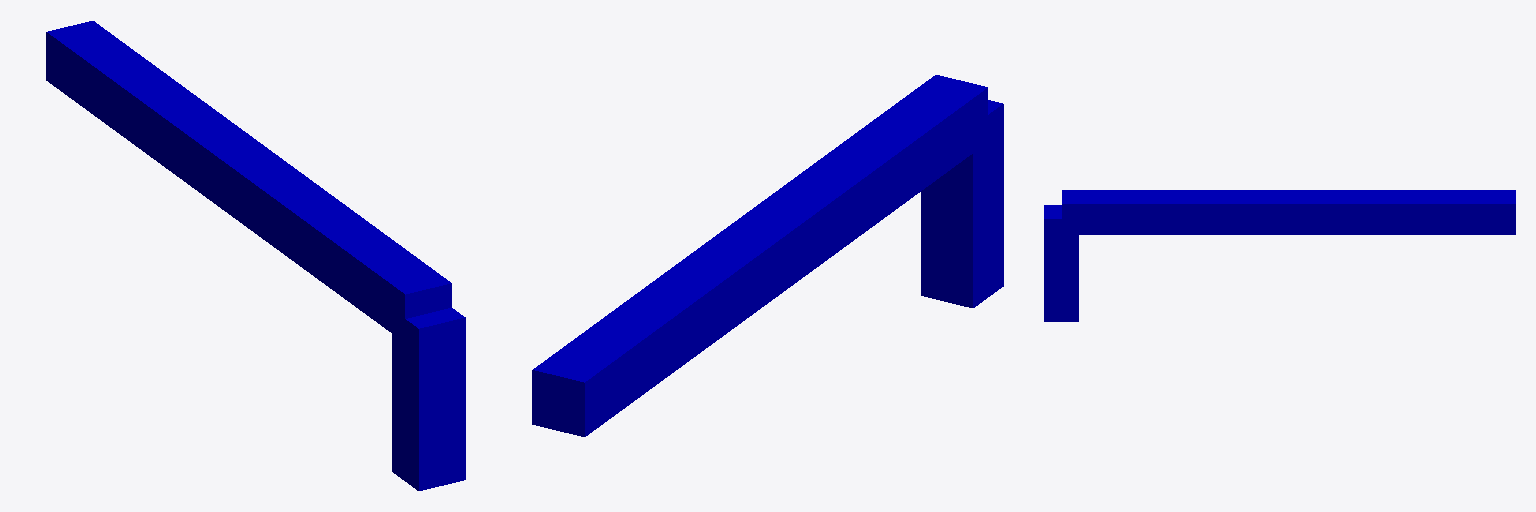
The robot description file, URDF, robot "arm_bot":
<?xml version="1.0" ?>
<!-- =================================================================================== -->
<!-- |    This document was autogenerated by xacro from arm_bot.xacro                  | -->
<!-- |    EDITING THIS FILE BY HAND IS NOT RECOMMENDED                                 | -->
<!-- =================================================================================== -->
<robot name="arm_bot" xmlns:xacro="http://www.ros.org/wiki/xacro">
  <link name="world"/>
  <link name="base1">
    <visual>
      <geometry>
        <box size="1e-12 1e-12 1e-12"/>
      </geometry>
      <material name="blue">
        <color rgba="0 0 .8 1"/>
      </material>
    </visual>
    <collision>
      <geometry>
        <box size="1e-12 1e-12 1e-12"/>
      </geometry>
    </collision>
    <inertial>
      <mass value="0.1"/>
      <inertia ixx="0.03" ixy="0.0" ixz="0.0" iyy="0.03" iyz="0.0" izz="0.03"/>
    </inertial>
  </link>
  <link name="base2">
    <visual>
      <origin rpy="0 0 0" xyz="0 0 2.5"/>
      <geometry>
        <box size="1.5 1.5 5"/>
      </geometry>
      <material name="blue">
        <color rgba="0 0 .8 1"/>
      </material>
    </visual>
    <collision>
      <origin rpy="0 0 0" xyz="0 0 2.5"/>
      <geometry>
        <box size="1.5 1.5 5"/>
      </geometry>
    </collision>
    <inertial>
      <mass value="0.1"/>
      <inertia ixx="0.03" ixy="0.0" ixz="0.0" iyy="0.03" iyz="0.0" izz="0.03"/>
    </inertial>
  </link>
  <link name="link1">
    <visual>
      <origin rpy="0 0 0" xyz="0 1.0 0"/>
      <geometry>
        <box size="1.5 2 1.5"/>
      </geometry>
      <material name="blue">
        <color rgba="0 0 .8 1"/>
      </material>
    </visual>
    <collision>
      <origin rpy="0 0 0" xyz="0 1.0 0"/>
      <geometry>
        <box size="1.5 2 1.5"/>
      </geometry>
    </collision>
    <inertial>
      <mass value="0.1"/>
      <inertia ixx="0.03" ixy="0.0" ixz="0.0" iyy="0.03" iyz="0.0" izz="0.03"/>
    </inertial>
  </link>
  <link name="link2">
    <visual>
      <origin rpy="0 0 0" xyz="0 5.0 0"/>
      <geometry>
        <box size="1.5 10 1.5"/>
      </geometry>
      <material name="blue">
        <color rgba="0 0 .8 1"/>
      </material>
    </visual>
    <collision>
      <origin rpy="0 0 0" xyz="0 5.0 0"/>
      <geometry>
        <box size="1.5 10 1.5"/>
      </geometry>
    </collision>
    <inertial>
      <mass value="0.1"/>
      <inertia ixx="0.03" ixy="0.0" ixz="0.0" iyy="0.03" iyz="0.0" izz="0.03"/>
    </inertial>
  </link>
  <link name="link3">
    <visual>
      <origin rpy="0 0 0" xyz="0 4.0 0"/>
      <geometry>
        <box size="1.5 8 1.5"/>
      </geometry>
      <material name="blue">
        <color rgba="0 0 .8 1"/>
      </material>
    </visual>
    <collision>
      <origin rpy="0 0 0" xyz="0 4.0 0"/>
      <geometry>
        <box size="1.5 8 1.5"/>
      </geometry>
    </collision>
    <inertial>
      <mass value="0.1"/>
      <inertia ixx="0.03" ixy="0.0" ixz="0.0" iyy="0.03" iyz="0.0" izz="0.03"/>
    </inertial>
  </link>
  <joint name="fixed" type="fixed">
    <parent link="world"/>
    <child link="base1"/>
  </joint>
  <joint name="base_rotate" type="continuous">
    <parent link="base1"/>
    <child link="base2"/>
    <origin rpy="0 0 0" xyz="0 0 0"/>
    <axis xyz="0 0 1"/>
  </joint>
  <joint name="joint1" type="revolute">
    <parent link="base2"/>
    <child link="link1"/>
    <origin rpy="0 0 0" xyz="0 0 5"/>
    <axis xyz="1 0 0"/>
    <limit effort="100" lower="-3.14" upper="3.14" velocity="3"/>
    <!-- Effort is between 0 and 100 (units are %) and velocity is radians per second -->
  </joint>
  <joint name="joint2" type="revolute">
    <parent link="link1"/>
    <child link="link2"/>
    <origin rpy="0 0 0" xyz="0 2 0"/>
    <axis xyz="1 0 0"/>
    <limit effort="100" lower="-3.14" upper="3.14" velocity="3"/>
    <!-- Effort is between 0 and 100 (units are %) and velocity is radians per second -->
  </joint>
  <joint name="joint3" type="revolute">
    <parent link="link2"/>
    <child link="link3"/>
    <origin rpy="0 0 0" xyz="0 10 0"/>
    <axis xyz="1 0 0"/>
    <limit effort="100" lower="-3.14" upper="3.14" velocity="3"/>
    <!-- Effort is between 0 and 100 (units are %) and velocity is radians per second -->
  </joint>
  <transmission name="trans_base_rotate">
    <type>transmission_interface/SimpleTransmission</type>
    <joint name="base_rotate">
      <hardwareInterface>hardware_interface/EffortJointInterface</hardwareInterface>
    </joint>
    <actuator name="base_rotate_motor">
      <hardwareInterface>hardware_interface/EffortJointInterface</hardwareInterface>
      <mechanicalReduction>1</mechanicalReduction>
    </actuator>
  </transmission>
  <transmission name="trans_joint1">
    <type>transmission_interface/SimpleTransmission</type>
    <joint name="joint1">
      <hardwareInterface>hardware_interface/EffortJointInterface</hardwareInterface>
    </joint>
    <actuator name="joint1_motor">
      <hardwareInterface>hardware_interface/EffortJointInterface</hardwareInterface>
      <mechanicalReduction>1</mechanicalReduction>
    </actuator>
  </transmission>
  <transmission name="trans_joint2">
    <type>transmission_interface/SimpleTransmission</type>
    <joint name="joint2">
      <hardwareInterface>hardware_interface/EffortJointInterface</hardwareInterface>
    </joint>
    <actuator name="joint2_motor">
      <hardwareInterface>hardware_interface/EffortJointInterface</hardwareInterface>
      <mechanicalReduction>1</mechanicalReduction>
    </actuator>
  </transmission>
  <transmission name="trans_joint3">
    <type>transmission_interface/SimpleTransmission</type>
    <joint name="joint3">
      <hardwareInterface>hardware_interface/EffortJointInterface</hardwareInterface>
    </joint>
    <actuator name="joint3_motor">
      <hardwareInterface>hardware_interface/EffortJointInterface</hardwareInterface>
      <mechanicalReduction>1</mechanicalReduction>
    </actuator>
  </transmission>
  <gazebo>
    <plugin filename="libgazebo_ros_control.so" name="gazebo_ros_control">
      <robotNamespace>/</robotNamespace>
    </plugin>
  </gazebo>
</robot>

--- Render facts (derived) ---
Views: 3 orthographic renders of the robot side by side, from view 1: azimuth 30°, elevation 25°; view 2: azimuth 150°, elevation 25°; view 3: azimuth 270°, elevation 25°.
Model arm_bot with 6 links and 5 joints (3 revolute, 1 continuous, 1 fixed), rooted at world, posed all joints at 0.
Links seen in each view (by area): view 1: link2, link3, base2, link1; view 2: link2, link3, base2, link1; view 3: link2, link3, base2, link1.
Link boxes in pixels (left/top/right/bottom): link2: left=190, top=126, right=415, bottom=316; link3: left=46, top=21, right=236, bottom=184; base2: left=392, top=308, right=465, bottom=490; link1: left=370, top=257, right=451, bottom=342; link2: left=694, top=104, right=947, bottom=318; link3: left=532, top=252, right=745, bottom=436; base2: left=921, top=100, right=1003, bottom=307; link1: left=896, top=75, right=987, bottom=170; link2: left=1107, top=190, right=1333, bottom=234; link3: left=1334, top=190, right=1515, bottom=234; base2: left=1044, top=205, right=1078, bottom=321; link1: left=1062, top=190, right=1106, bottom=234.
Size in the robot's own frame: 1.5 by 20.75 by 5.75 metres.
Geometry: primitives only (box / cylinder / sphere), no mesh files.